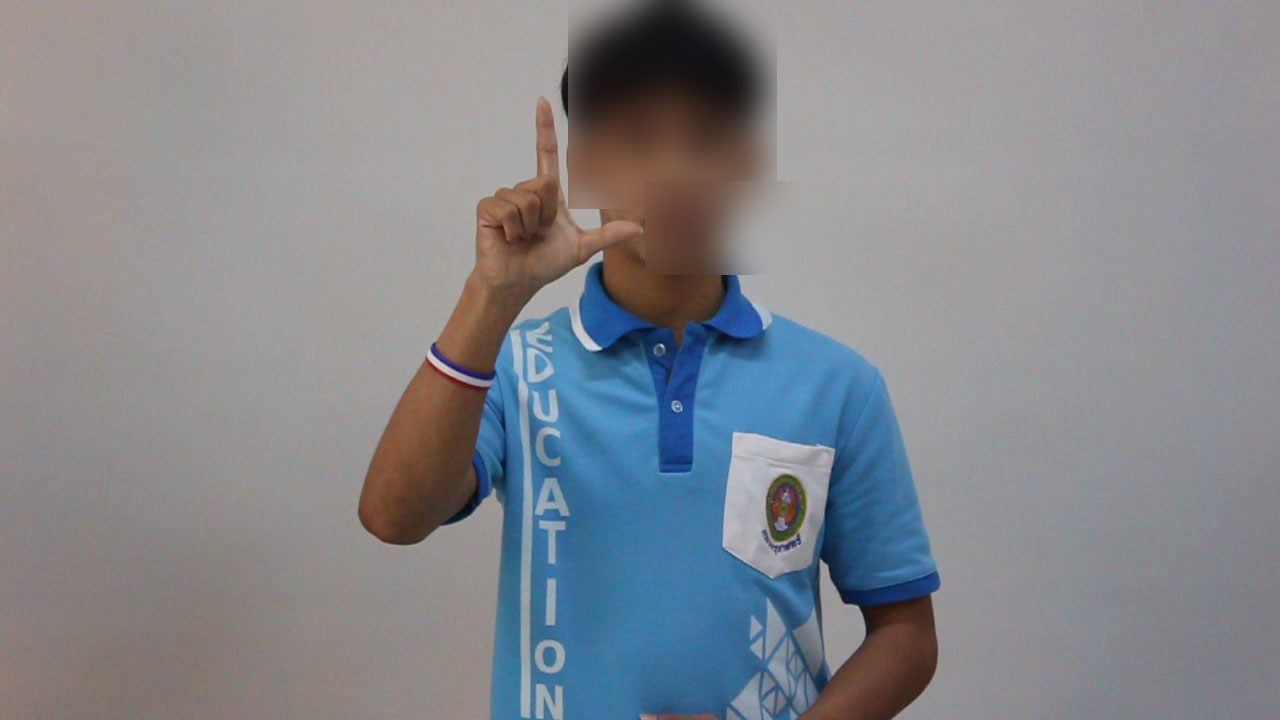lor: (447, 94, 651, 298)
